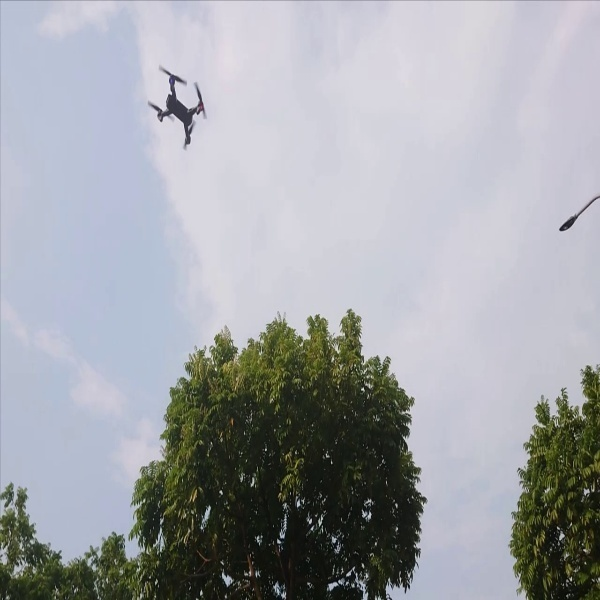drone: (140, 62, 216, 158)
